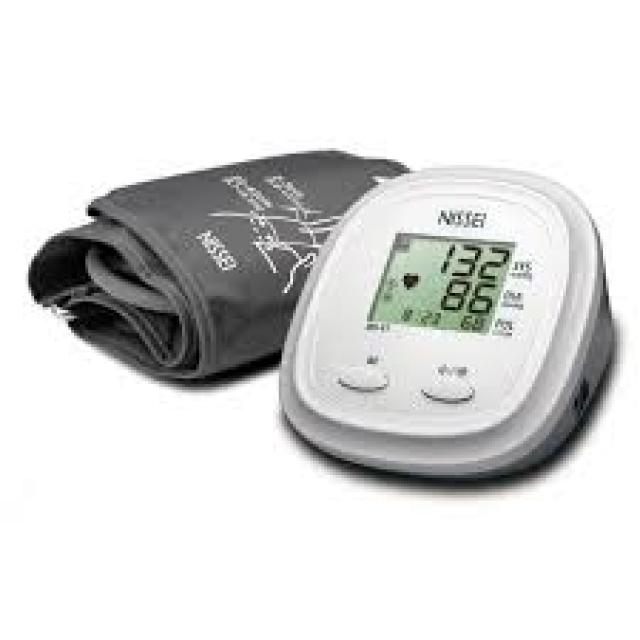dia: (429, 272, 506, 321)
pul: (454, 310, 492, 341)
ssd: (368, 233, 513, 336)
sys: (431, 235, 517, 286)
